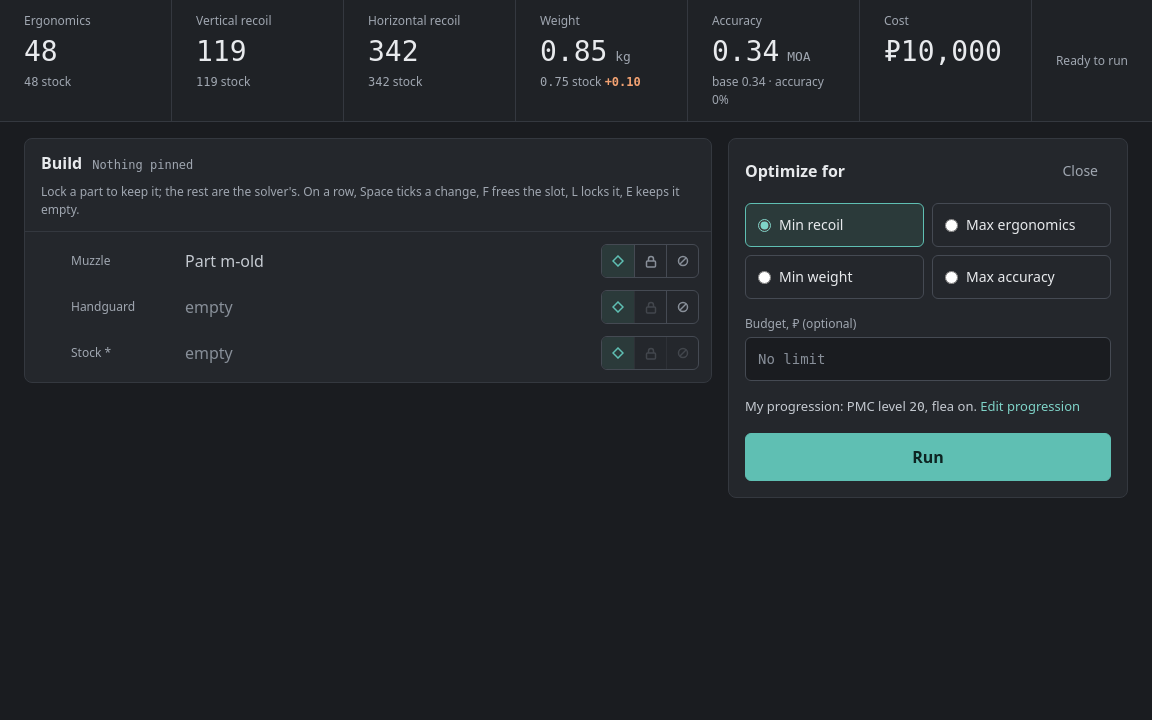
it: OptimizeWorkbench › ticks with the tick box too, and won't apply nothing
This screenshot has width=1152, height=720.
Click the button "Run" at (928,456), box [745,432,1111,480]
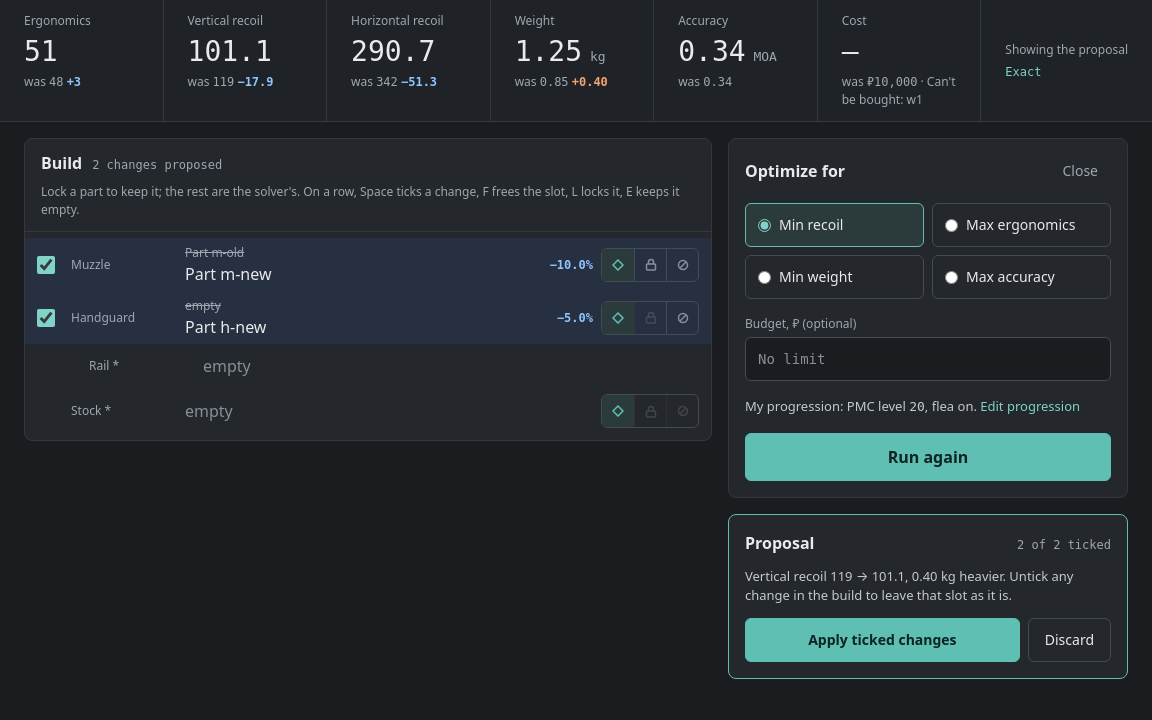
Check: the element "Proposal" is shown, box [728,514,1128,678]
Click the checkbox named "Accept the Muzzle change" at (46,264), box [37,256,55,274]
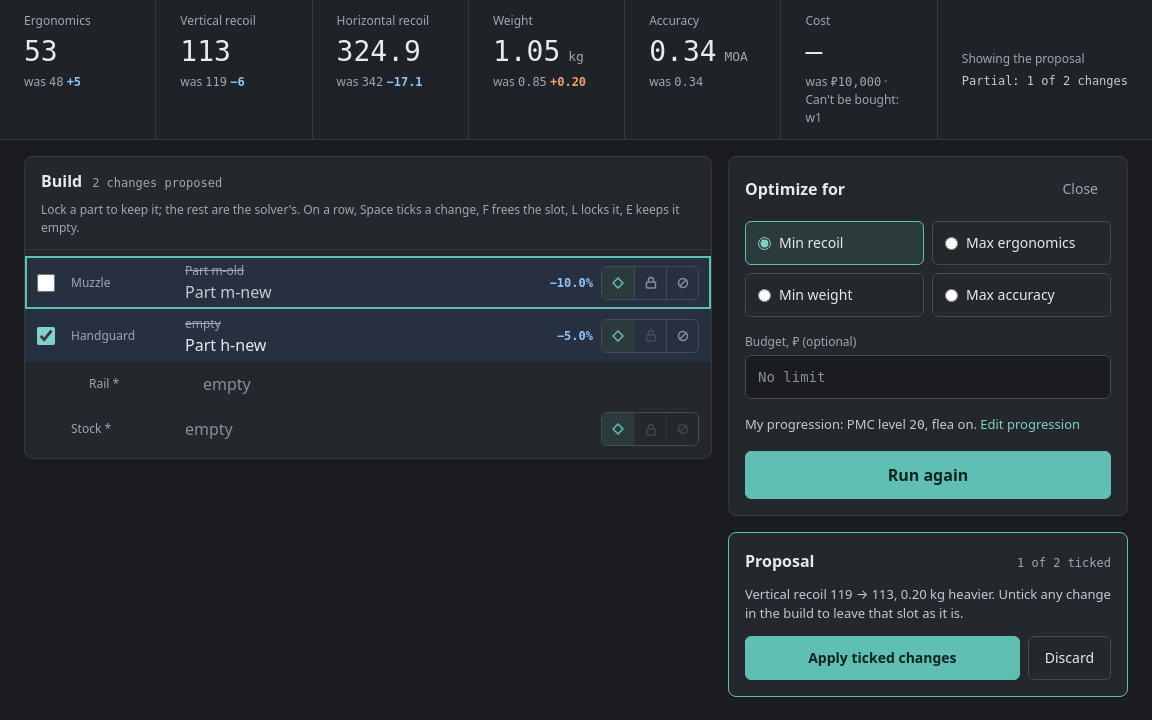
Click the checkbox named "Accept the Handguard change" at (46,336), box [37,326,55,344]
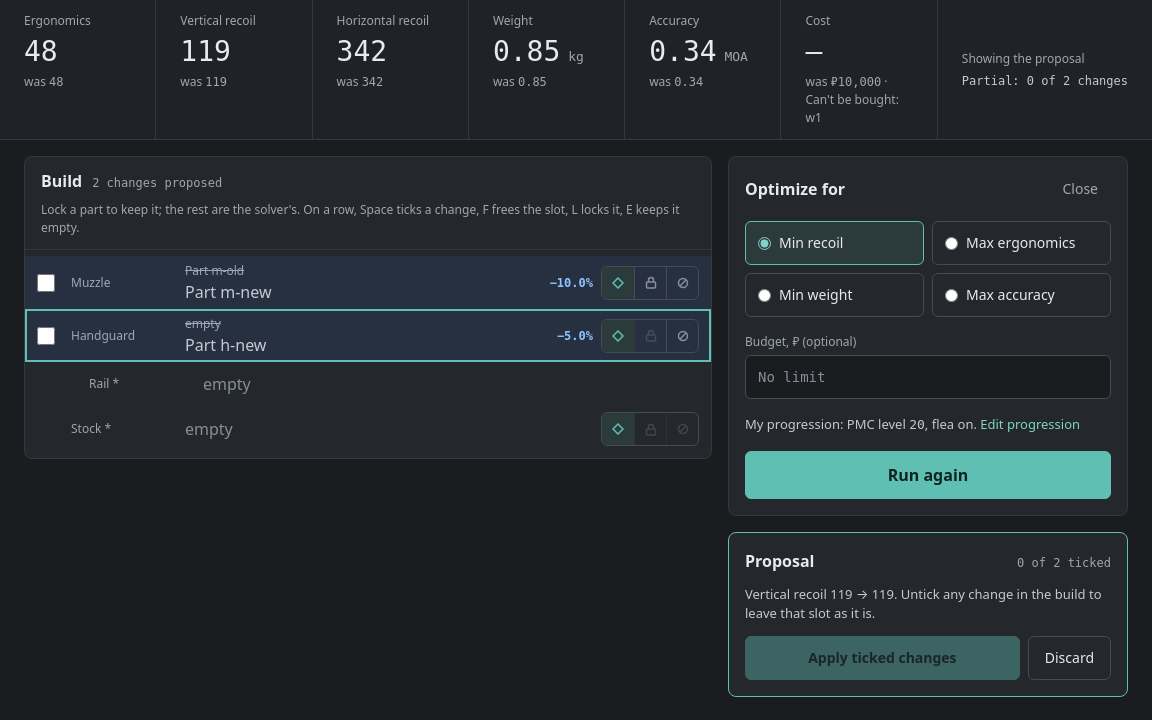
Check: the button "Apply ticked changes" is disabled, box [745,636,1020,680]
